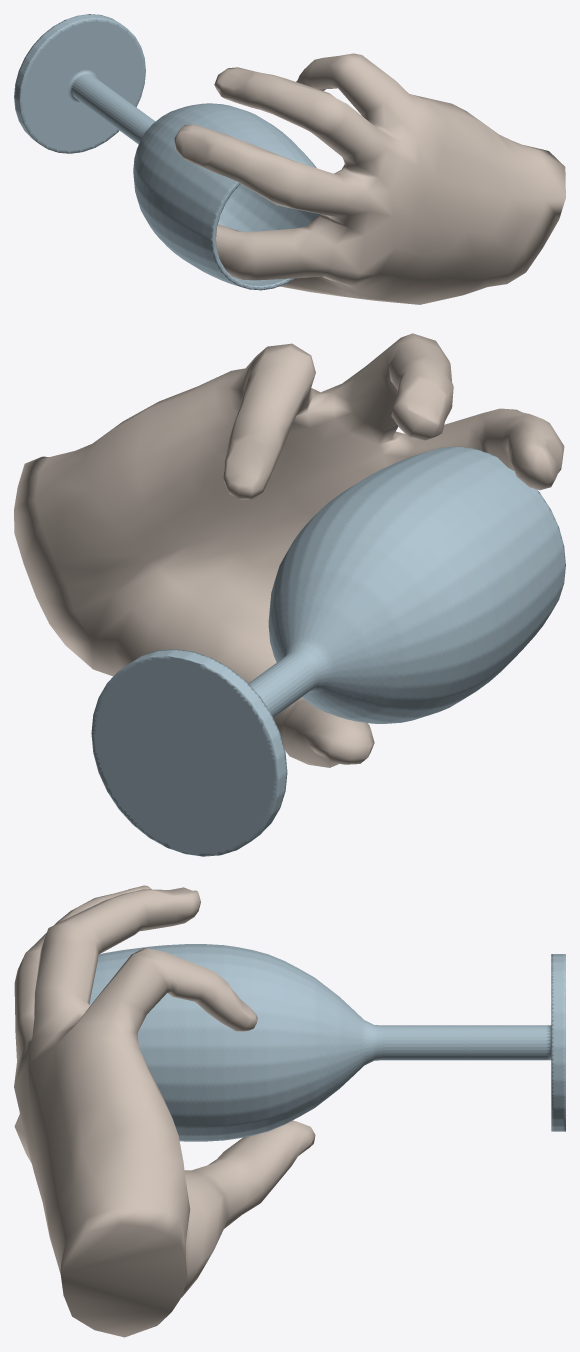
Rendered from ours_1.glb.
3 views of the same model, one above another, from view 1: azimuth 30°, elevation 25°; view 2: azimuth 150°, elevation 25°; view 3: azimuth 270°, elevation 25° (orthographic). The views are drawn at different scales.
Size of the model in its own units: 0.1857 by 0.1265 by 0.1981.
